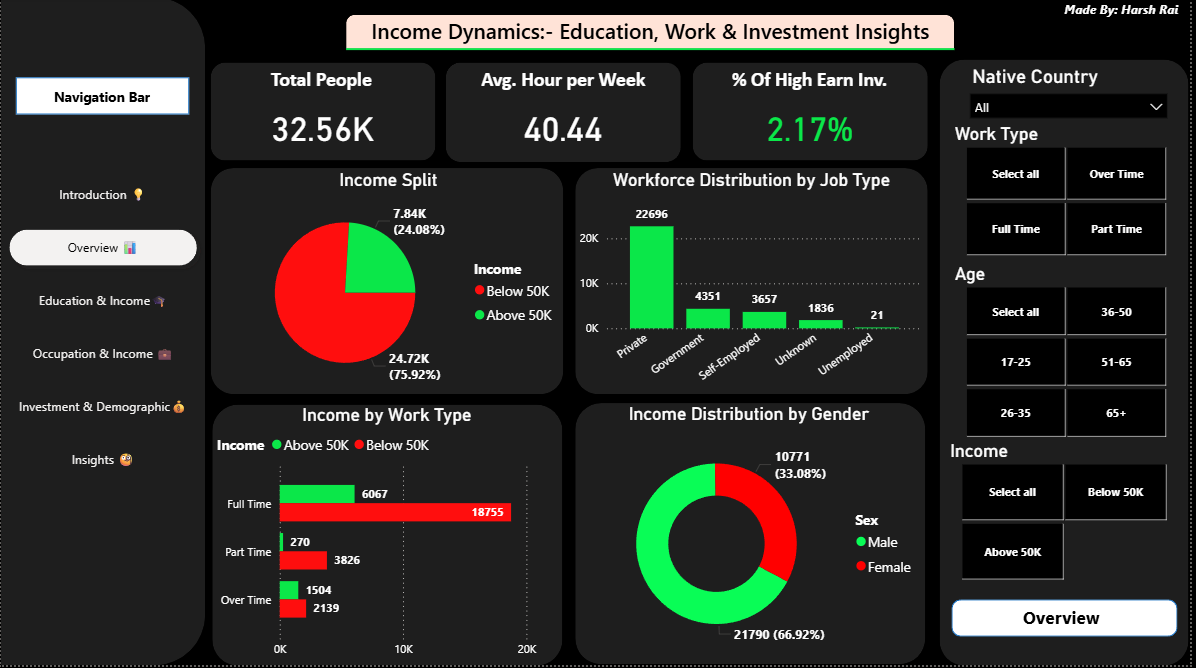

Layout of this report page (visuals, bound fields, positions):
{"tool":"powerbi","page":{"name":"Overview 📊","canvas":[1280,720],"ordinal":1},"visuals":[{"type":"shape","box":[0,0,220,720],"z":0},{"type":"shape","box":[1011.4,66.5,268.1,652.9],"z":0,"group":"g7"},{"type":"pageNavigator","box":[0,185,220,343.3],"z":1000},{"type":"slicer","fields":{"Values":["Worksheet.Age"]},"box":[1014.2,280.6,265,198.3],"z":1000,"group":"g7"},{"type":"group","id":"g1","title":"Group 2","box":[16.7,86.7,186.7,41.7],"z":2000},{"type":"textbox","box":[1135,0,145,28.3],"z":3000},{"type":"slicer","fields":{"Values":["Worksheet.Income"]},"box":[1009.2,472.4,270,161.7],"z":3000,"group":"g7"},{"type":"group","id":"g2","title":"Group 1","box":[225.9,70.5,241.9,105.7],"z":4000},{"type":"group","id":"g3","title":"Group 1","box":[479,69.7,253.1,108.1],"z":5000},{"type":"group","id":"g4","title":"Group 3","box":[745,70.5,253.1,105.7],"z":6000},{"type":"shape","box":[225.9,184.2,379.7,243.5],"z":6000,"group":"g6"},{"type":"group","id":"g5","title":"Group 5","box":[227.1,438.6,377.1,281.4],"z":7000},{"type":"shape","box":[225.9,70.5,241.9,105.7],"z":8000,"group":"g2"},{"type":"shape","box":[479,70.5,253.1,107.3],"z":8000,"group":"g3"},{"type":"shape","box":[745,70.5,253.1,105.7],"z":8000,"group":"g8"},{"type":"group","id":"g6","title":"Group 6","box":[225.9,184.2,381.3,245.1],"z":8000},{"type":"shape","box":[618.4,184.2,379.7,243.5],"z":8000,"group":"g10"},{"type":"group","id":"g7","title":"Group 4","box":[1009.2,66.5,270.3,652.9],"z":9000,"group":"g15"},{"type":"group","id":"g8","title":"Group 1","box":[745,70.5,253.1,105.7],"z":9000,"group":"g4"},{"type":"card","fields":{"Values":["CountNonNull(Worksheet.Sr. No)"]},"box":[229.1,106.8,235.5,63.1],"z":9000,"group":"g2"},{"type":"card","fields":{"Values":["Avg(Worksheet.Hours Per Week)"]},"box":[482.4,107.3,246.4,64.1],"z":9000,"group":"g3"},{"type":"columnChart","title":"Workforce Distribution by  Job Type","fields":{"Y":["CountNonNull(Worksheet.Sr. No)"],"Category":["Worksheet.Work Class"]},"box":[618.4,185.9,380,243.3],"z":9000,"group":"g10"},{"type":"group","id":"g9","title":"Group 5","box":[616.3,438,379.4,281.5],"z":9000},{"type":"textbox","box":[501.4,69.7,208.3,41.7],"z":10000,"group":"g3"},{"type":"textbox","box":[274,70.5,142.6,40.1],"z":10000,"group":"g2"},{"type":"textbox","box":[759.4,70.5,222.7,43.3],"z":10000,"group":"g8"},{"type":"group","id":"g10","title":"Group 8","box":[618.4,184.2,380,245],"z":10000},{"type":"card","fields":{"Values":["Worksheet.High Gain %"]},"box":[748.2,107.3,246.7,64.1],"z":10500,"group":"g4"},{"type":"group","id":"g11","title":"Group 9","box":[1009.2,66.5,270.3,652.9],"z":11000},{"type":"pieChart","title":"Income Split","fields":{"Y":["CountNonNull(Worksheet.Sr. No)"],"Category":["Worksheet.Income"]},"box":[227.5,185.8,379.7,243.5],"z":11000,"group":"g6"},{"type":"shape","box":[618.5,438,377.1,281.4],"z":11000,"group":"g9"},{"type":"shape","box":[227.1,438.6,377.1,281.4],"z":11000,"group":"g5"},{"type":"shape","box":[16.7,86.7,186.7,40],"z":12000,"group":"g1"},{"type":"group","id":"g12","title":"Group 10","box":[1023.1,648.1,243.3,40],"z":12000},{"type":"shape","box":[1023.1,648.1,243.3,40],"z":12000,"group":"g14"},{"type":"shape","box":[55.8,88.5,108.4,37.3],"z":12500,"group":"g1"},{"type":"group","id":"g13","title":"Group 11","box":[371.1,19.6,655.7,37.8],"z":13000},{"type":"shape","box":[371.8,19.6,655,36.7],"z":13000,"group":"g13"},{"type":"group","id":"g14","title":"Group 2","box":[1023.1,648.1,243.3,40],"z":13000,"group":"g12"},{"type":"slicer","fields":{"Values":["Worksheet.Native Country"]},"box":[1033.9,67.3,233.3,73.3],"z":13500,"group":"g15"},{"type":"group","id":"g15","title":"Group 7","box":[1009.2,66.5,270.3,652.9],"z":13501,"group":"g11"},{"type":"shape","title":"Income Dynamics:- Education, Work & Investment Insights","box":[371.1,20.7,655.2,36.7],"z":14000,"group":"g13"},{"type":"donutChart","title":"Income Distribution by Gender","fields":{"Category":["Worksheet.Sex"],"Y":["CountNonNull(Worksheet.Sr. No)"]},"box":[616.3,438.1,377.1,281.4],"z":14000,"group":"g9"},{"type":"clusteredBarChart","title":"Income by Work Type","fields":{"Category":["Worksheet.Work Type"],"Y":["CountNonNull(Worksheet.Sr. No)"],"Series":["Worksheet.Income"]},"box":[227.5,438.6,376.4,281.4],"z":14000,"group":"g5"},{"type":"textbox","box":[1067.1,650,150,37.1],"z":14000,"group":"g12"},{"type":"slicer","fields":{"Values":["Worksheet.Work Type"]},"box":[1014.2,130.2,265,153.3],"z":14001,"group":"g11"}]}

Visuals, with their boxes in screenshot pixels (x1, y1, x2, y2), scaled from the page's 1280x720 canvas onto the 1196x668 screenshot:
shape: [0, 0, 206, 667]
shape: [945, 62, 1195, 667]
pageNavigator: [0, 172, 206, 490]
slicer - Worksheet.Age: [948, 260, 1195, 444]
"Group 2" group: [16, 80, 190, 119]
textbox: [1061, 0, 1195, 26]
slicer - Worksheet.Income: [943, 438, 1195, 588]
"Group 1" group: [211, 65, 437, 163]
"Group 1" group: [448, 65, 684, 165]
"Group 3" group: [696, 65, 933, 163]
shape: [211, 171, 566, 397]
"Group 5" group: [212, 407, 565, 667]
shape: [211, 65, 437, 163]
shape: [448, 65, 684, 165]
shape: [696, 65, 933, 163]
"Group 6" group: [211, 171, 567, 398]
shape: [578, 171, 933, 397]
"Group 4" group: [943, 62, 1195, 667]
"Group 1" group: [696, 65, 933, 163]
card - CountNonNull(Worksheet.Sr. No): [214, 99, 434, 158]
card - Avg(Worksheet.Hours Per Week): [451, 100, 681, 159]
"Workforce Distribution by  Job Type" columnChart: [578, 172, 933, 398]
"Group 5" group: [576, 406, 930, 667]
textbox: [468, 65, 663, 103]
textbox: [256, 65, 389, 103]
textbox: [710, 65, 918, 106]
"Group 8" group: [578, 171, 933, 398]
card - Worksheet.High Gain %: [699, 100, 930, 159]
"Group 9" group: [943, 62, 1195, 667]
"Income Split" pieChart: [213, 172, 567, 398]
shape: [578, 406, 930, 667]
shape: [212, 407, 565, 667]
shape: [16, 80, 190, 118]
"Group 10" group: [956, 601, 1183, 638]
shape: [956, 601, 1183, 638]
shape: [52, 82, 153, 117]
"Group 11" group: [347, 18, 959, 53]
shape: [347, 18, 959, 52]
"Group 2" group: [956, 601, 1183, 638]
slicer - Worksheet.Native Country: [966, 62, 1184, 130]
"Group 7" group: [943, 62, 1195, 667]
"Income Dynamics:- Education, Work & Investment Insights" shape: [347, 19, 959, 53]
"Income Distribution by Gender" donutChart: [576, 406, 928, 667]
"Income by Work Type" clusteredBarChart: [213, 407, 564, 667]
textbox: [997, 603, 1137, 637]
slicer - Worksheet.Work Type: [948, 121, 1195, 263]
